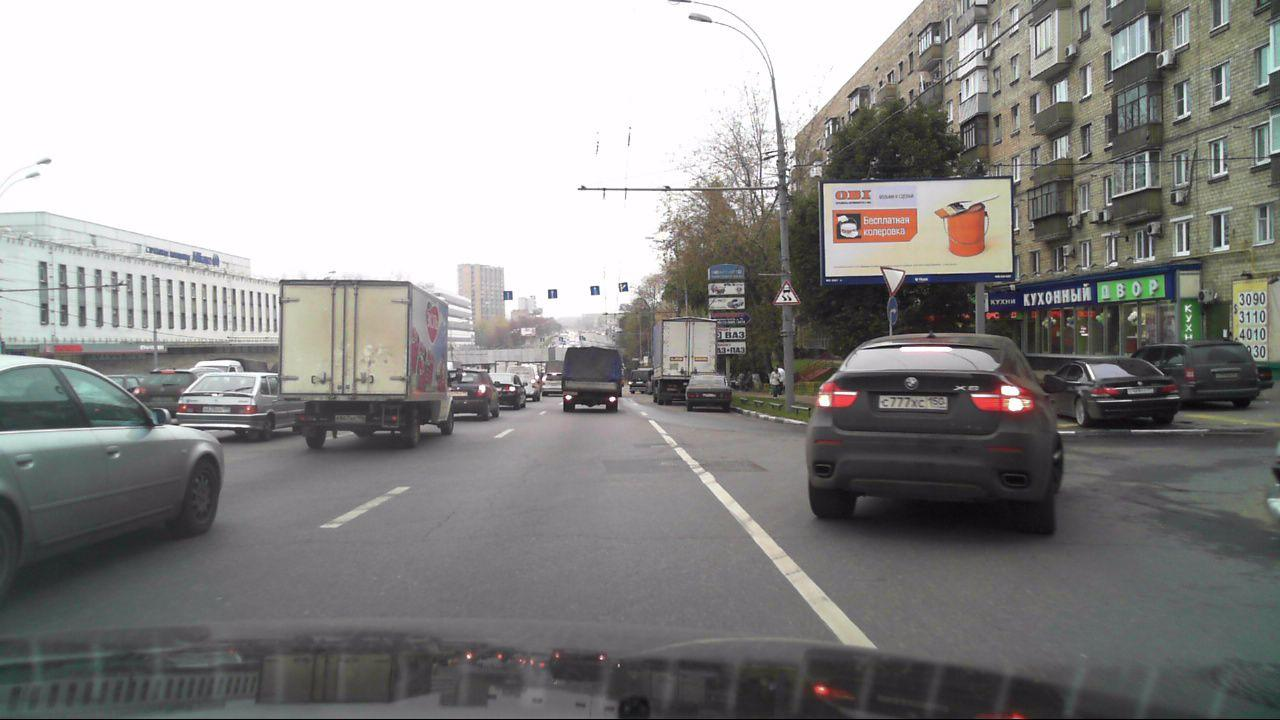road_sign: (770, 277, 803, 305), (880, 268, 907, 298)
